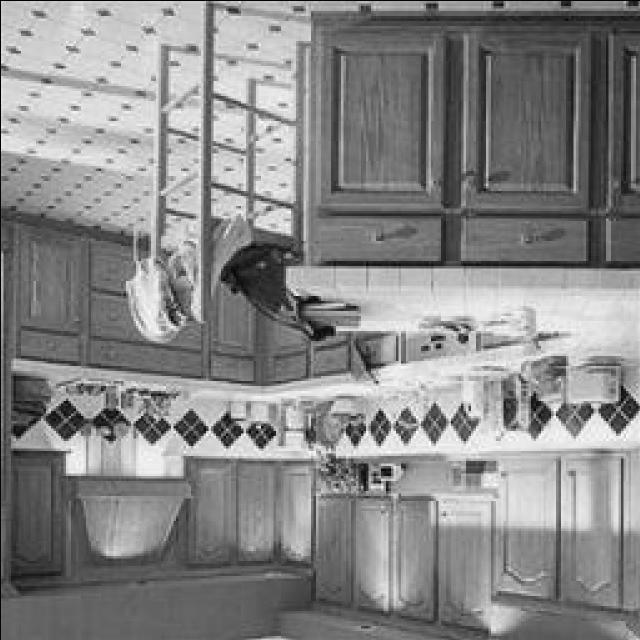chair: (139, 11, 303, 339)
